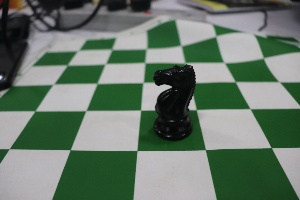black_horse: (144, 50, 203, 154)
